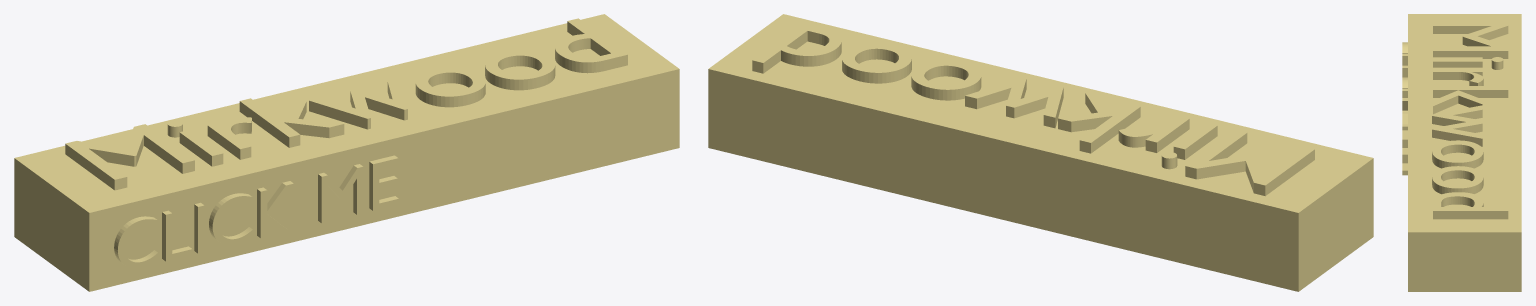
Rendered from mirk.glb.
3 renders of one model, left to right at view 1: azimuth 30°, elevation 25°; view 2: azimuth 150°, elevation 25°; view 3: azimuth 270°, elevation 25°, orthographic. The views are drawn at different scales.
Visible parts, largest first — view 1: 立方体.015; view 2: 立方体.015; view 3: 立方体.015.
Boxes of the visible parts, <box> form: 立方体.015: <box>14,14,679,291</box>; 立方体.015: <box>708,14,1373,291</box>; 立方体.015: <box>1402,14,1521,291</box>.
Size of the model in its own units: 4.38 by 0.6364 by 1.01.
